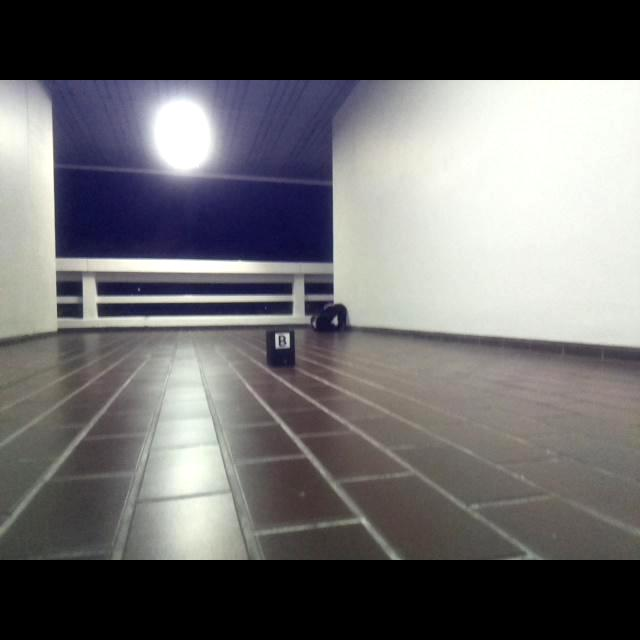B: (278, 334, 288, 347)
